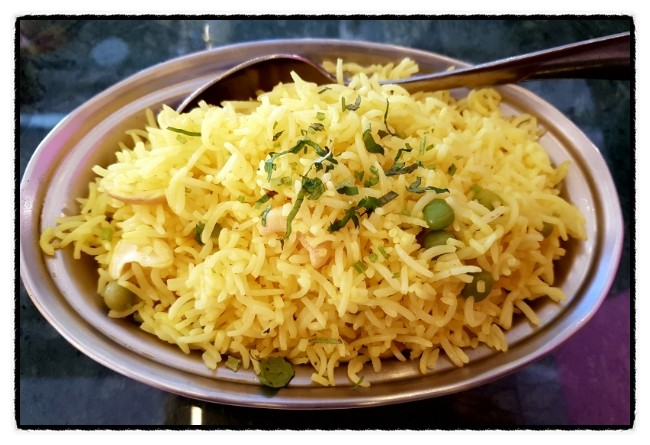plain rice: (156, 121, 495, 331)
